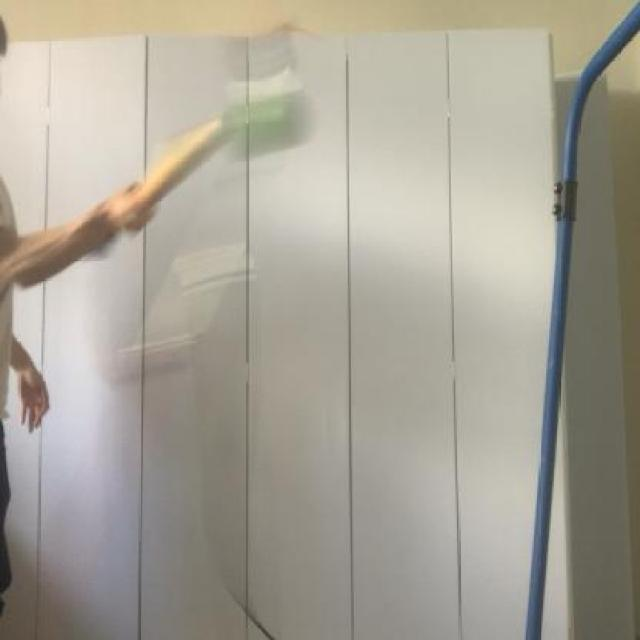baseball: (211, 69, 324, 169)
